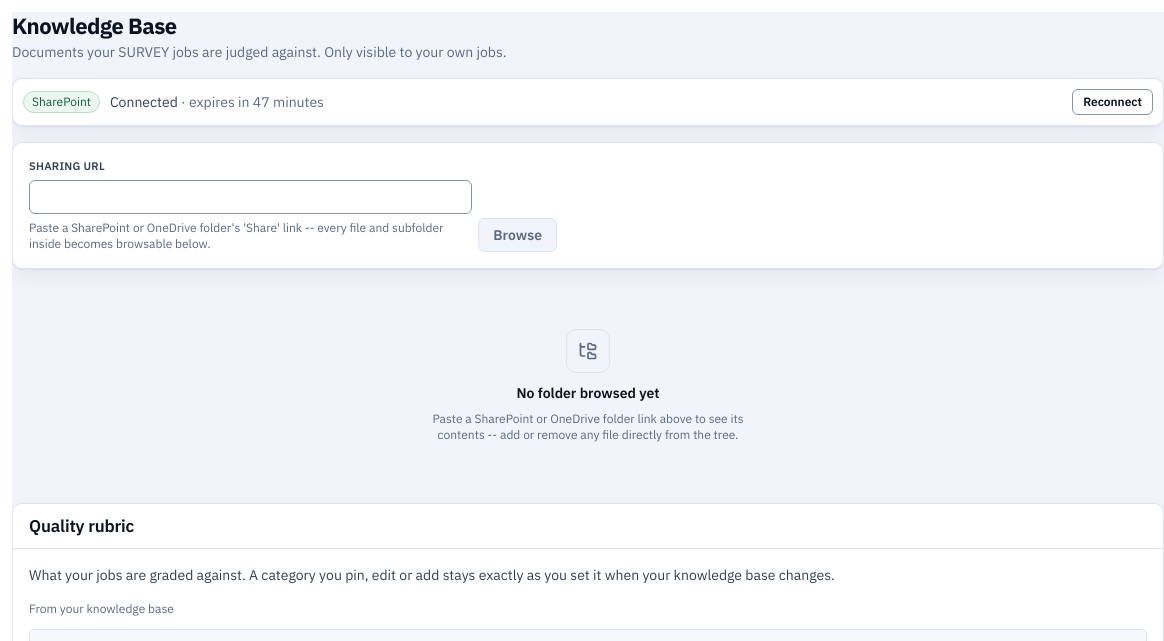
Test: KnowledgeBase › shows a clear "SharePoint token expired" message for a 424 -- not a generic error, and not a session logout
This screenshot has width=1164, height=641.
Type "https://share.example/folder" into the field labelled "Sharing URL" at (251, 197), box [29,180,472,214]
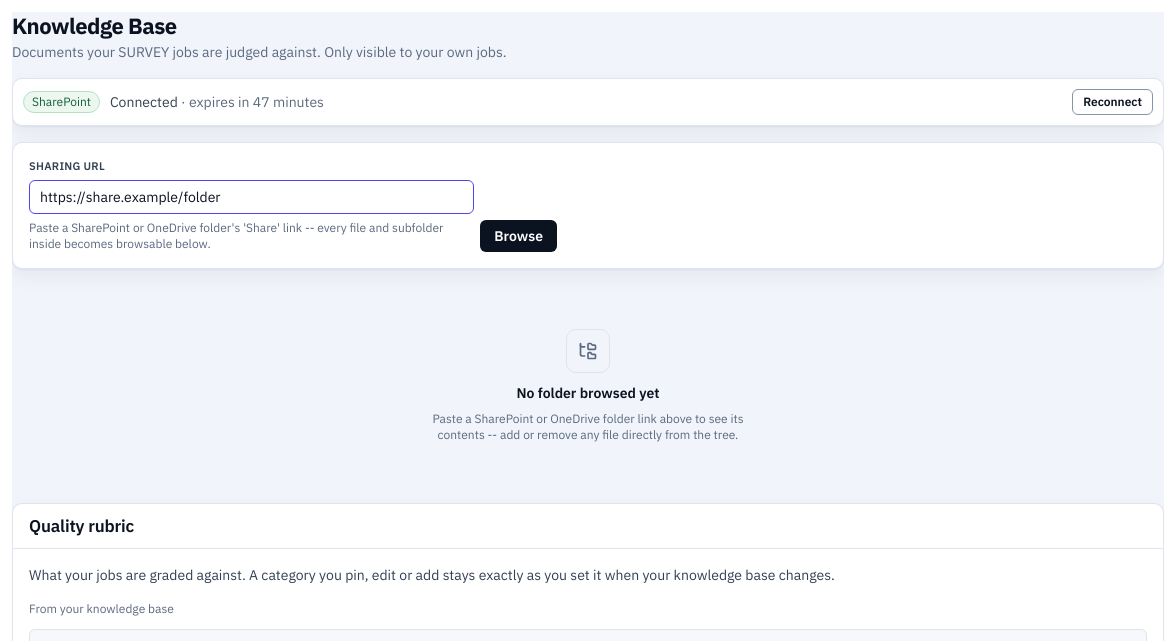
Click the button "Browse" at (519, 236), box [480,220,557,252]
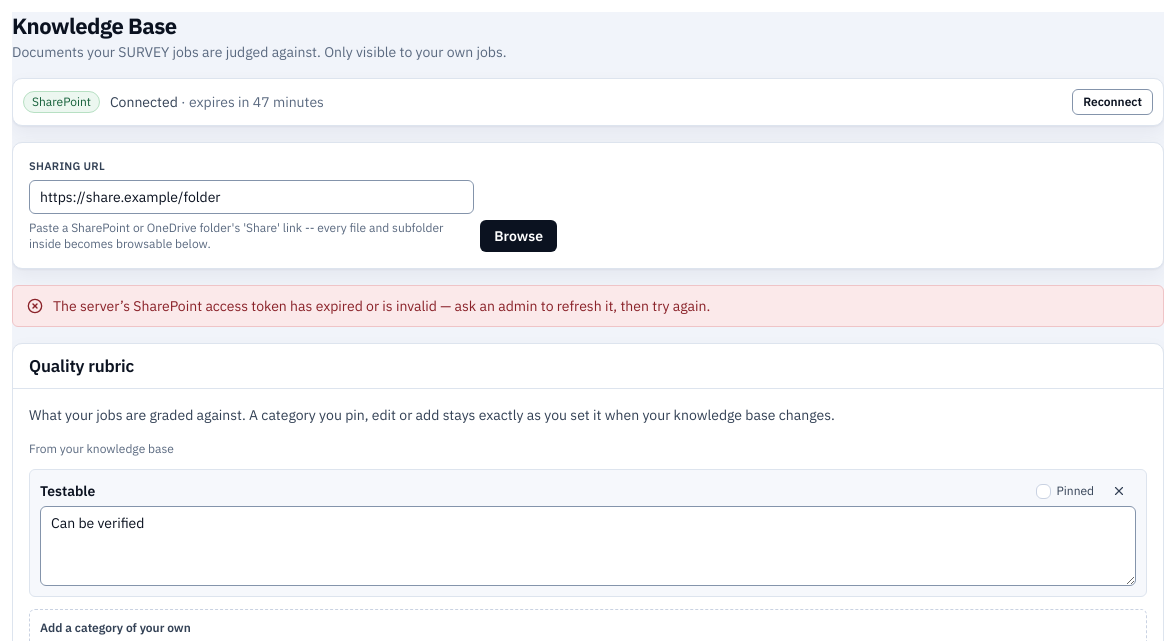
Check: the text "SharePoint access token has expired or is invalid" is shown, box [53,297,710,315]
